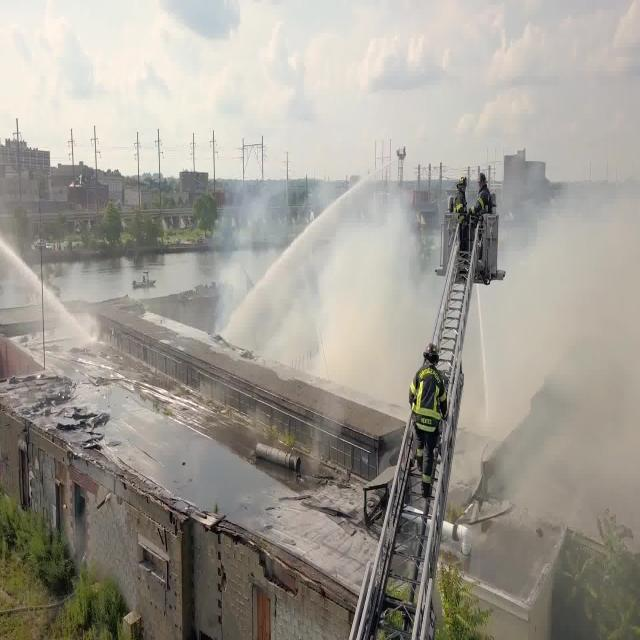Smoke: (187, 70, 638, 492)
